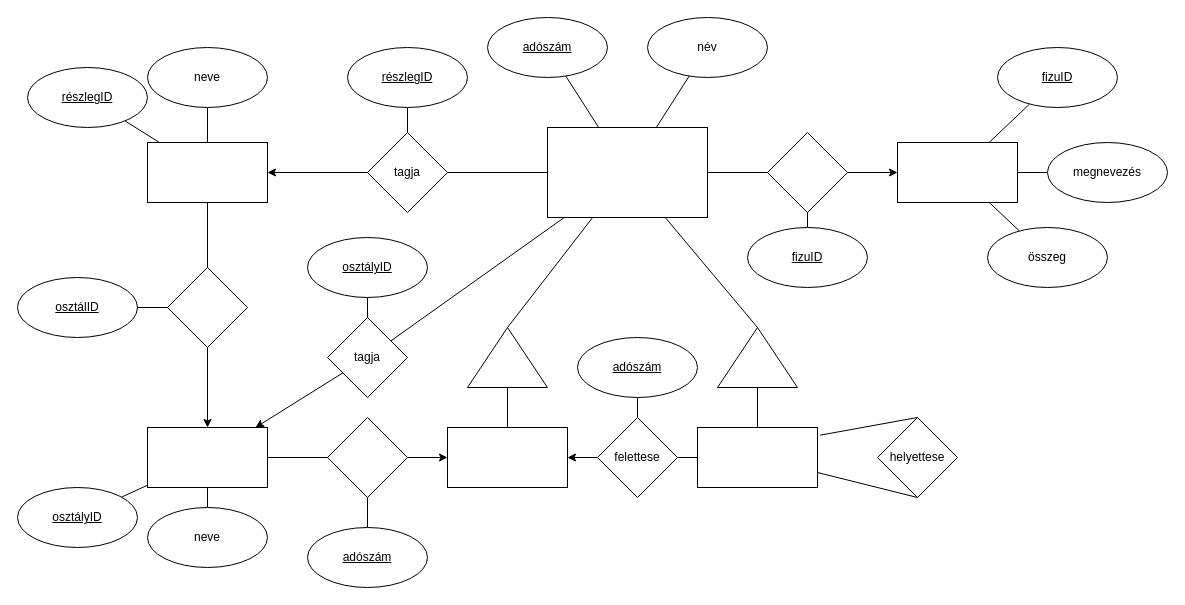
The diagram is 1185 pixels wide and 605 high, and some of its shapes have lost their labels. Here are the shapes that lost their labels. From the top down, the centre of each, then its label:
[207,172]: Részleg
[627,172]: Dolgozó
[807,172]: kapja
[957,172]: Fizetés
[207,307]: tartozik
[207,457]: Osztály
[367,457]: vezeti
[507,457]: Felettes
[757,457]: Alkalmazott
